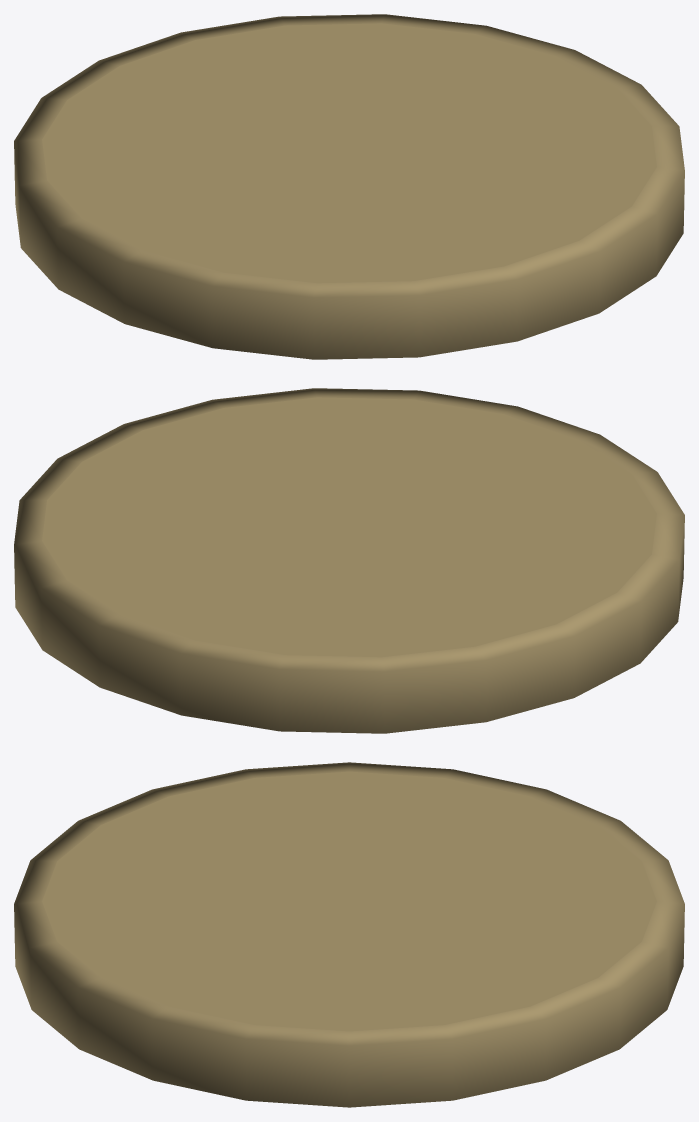
Rendered from G_Metal_03.fbx.
3 views of the same model, one above another, from view 1: azimuth 30°, elevation 25°; view 2: azimuth 150°, elevation 25°; view 3: azimuth 270°, elevation 25° (orthographic).
Visible parts, largest first — view 1: G_Metal_03; view 2: G_Metal_03; view 3: G_Metal_03.
Part boxes in pixels (x1,y1,x2,y2): G_Metal_03: [14, 14, 684, 359]; G_Metal_03: [14, 388, 684, 733]; G_Metal_03: [14, 762, 684, 1107].
Bounding box in the file's own units: 9.07 × 1.01 × 9.07.
